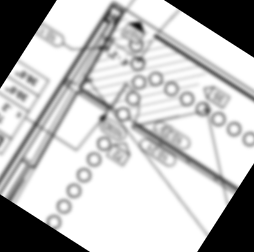door: (103, 81, 153, 131)
